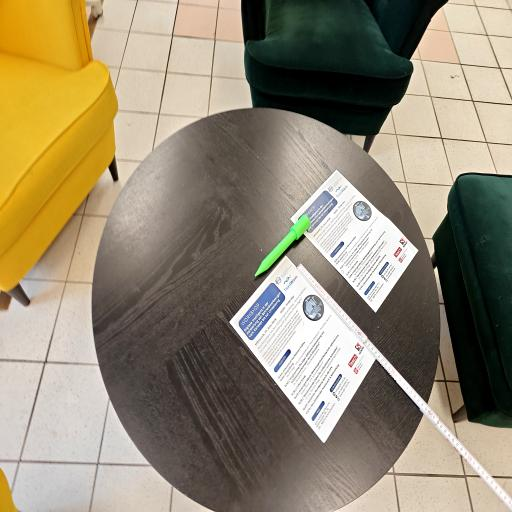Probe-Detection: (255, 214, 310, 276)
